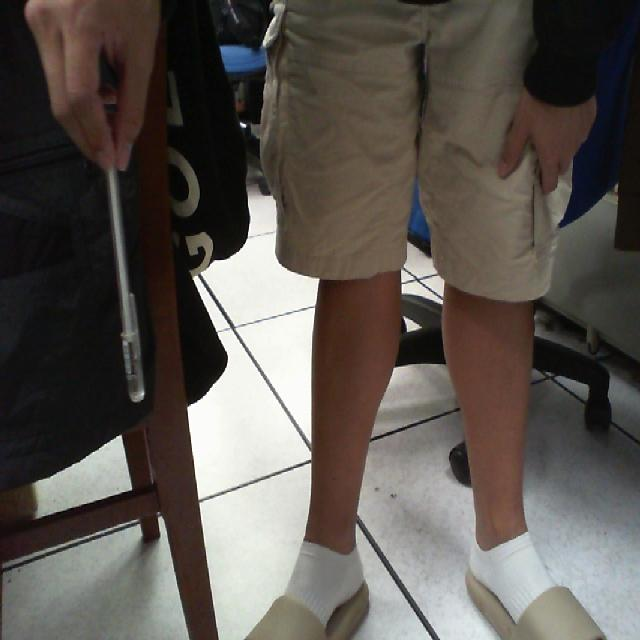Pen: (87, 147, 163, 426)
